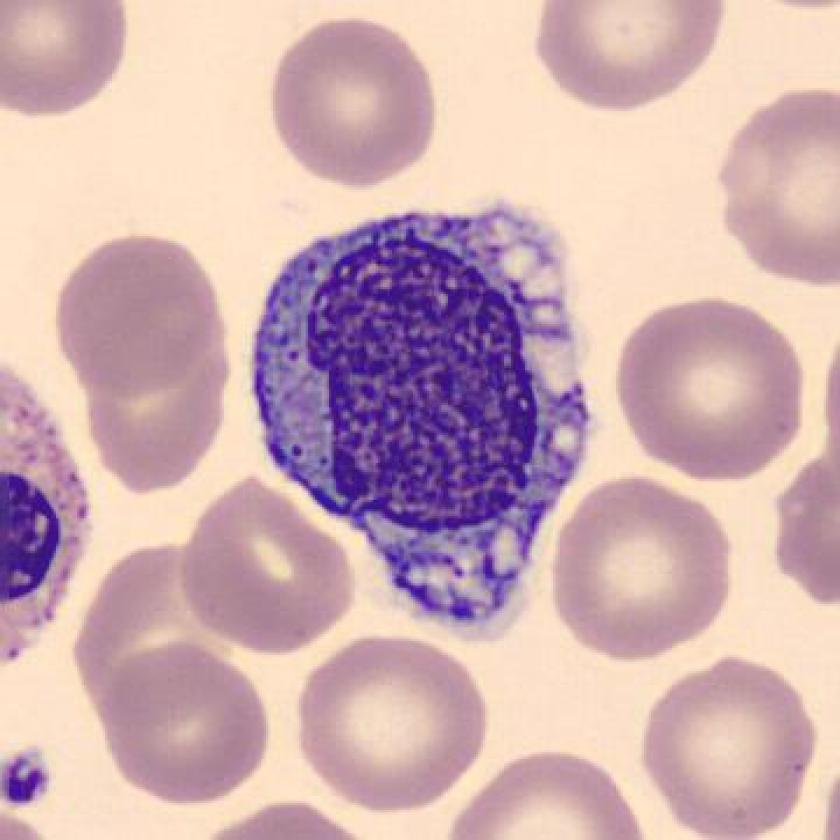monocyte: (230, 172, 619, 661)
